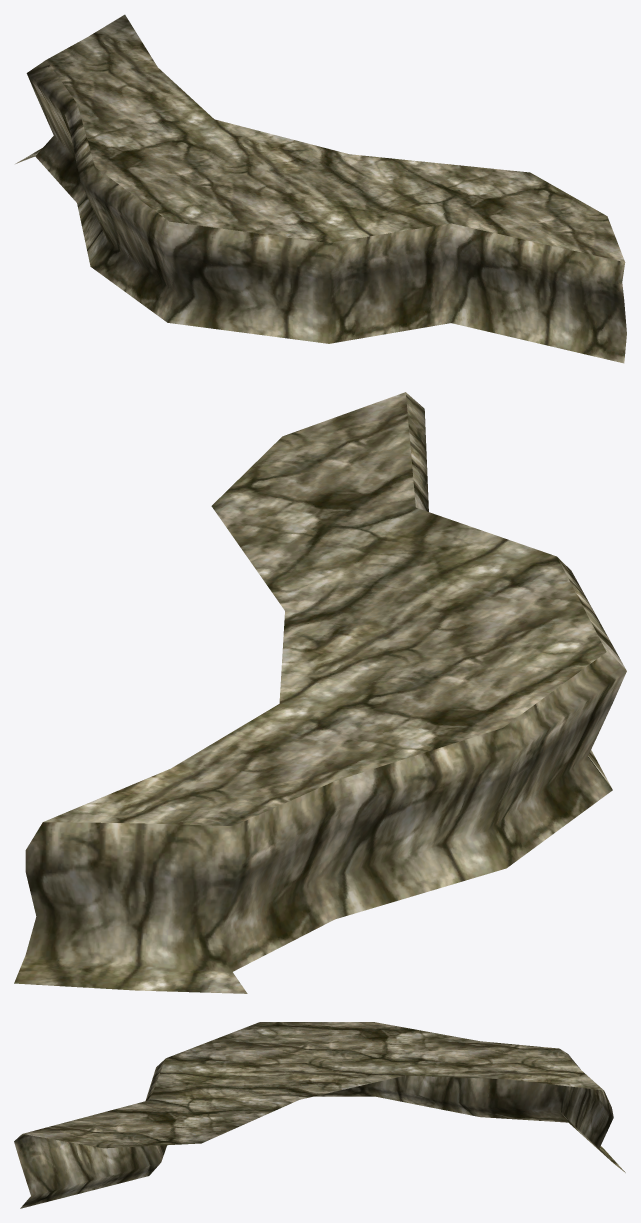
Rendered from CB_NEWPLAYSURFACE_CB_PLAYSURFACE74.fbx.
3 renders of one model, top to bottom at view 1: azimuth 30°, elevation 25°; view 2: azimuth 150°, elevation 25°; view 3: azimuth 270°, elevation 25°, orthographic. The views are drawn at different scales.
Visible parts, largest first — view 1: CB_NEWPLAYSURFACE_CB_PLAYSURFACE74; view 2: CB_NEWPLAYSURFACE_CB_PLAYSURFACE74; view 3: CB_NEWPLAYSURFACE_CB_PLAYSURFACE74.
Part boxes in pixels (x1,y1,x2,y2): CB_NEWPLAYSURFACE_CB_PLAYSURFACE74: (15,14,626,363); CB_NEWPLAYSURFACE_CB_PLAYSURFACE74: (14,392,626,993); CB_NEWPLAYSURFACE_CB_PLAYSURFACE74: (14,1022,625,1208).
Bounding box in the file's own units: 119443 × 35770 × 239062.
2 materials, 2 textured.
